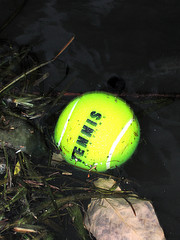tennis ball: (53, 91, 146, 174)
